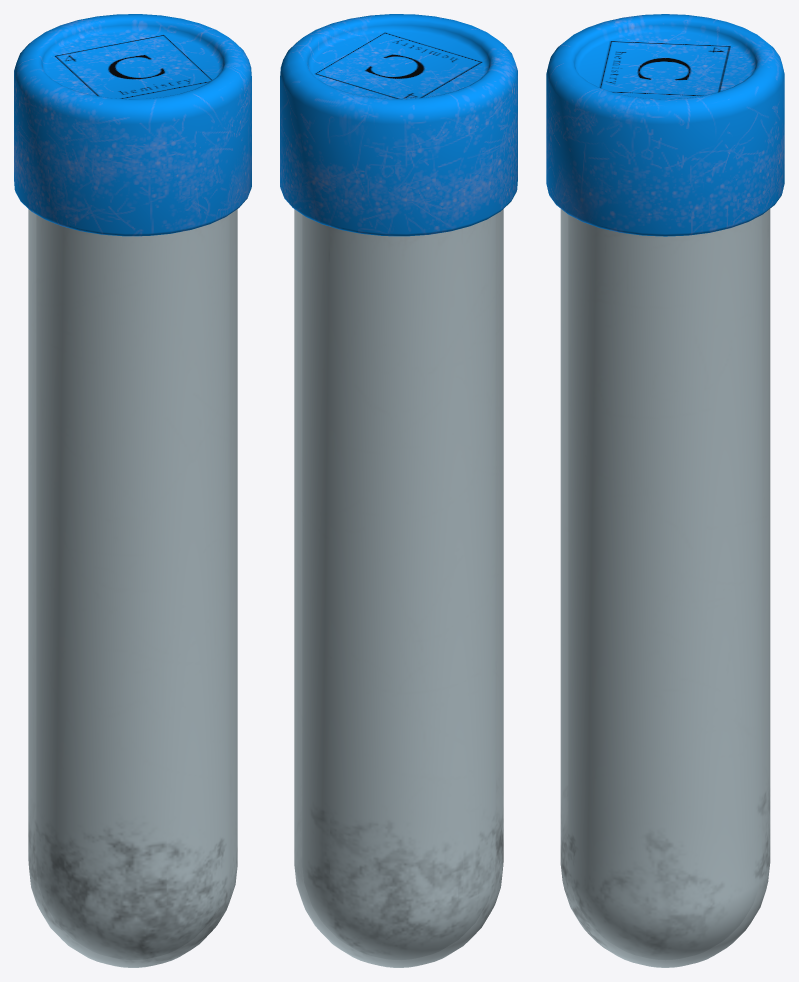
The picture shows the model from 3 angles, left to right: view 1: azimuth 30°, elevation 25°; view 2: azimuth 150°, elevation 25°; view 3: azimuth 270°, elevation 25°; orthographic projection.
Parts seen in each view (by area): view 1: Test_Tube_WCap_0; view 2: Test_Tube_WCap_0; view 3: Test_Tube_WCap_0.
Boxes of the visible parts, x1,y1,x2,y2 form: Test_Tube_WCap_0: [14, 14, 251, 967]; Test_Tube_WCap_0: [280, 14, 517, 967]; Test_Tube_WCap_0: [546, 14, 784, 967].
Bounding box in the file's own units: 0.4001 × 1.67 × 0.4001.
Materials: 2 (2 with a texture image).
